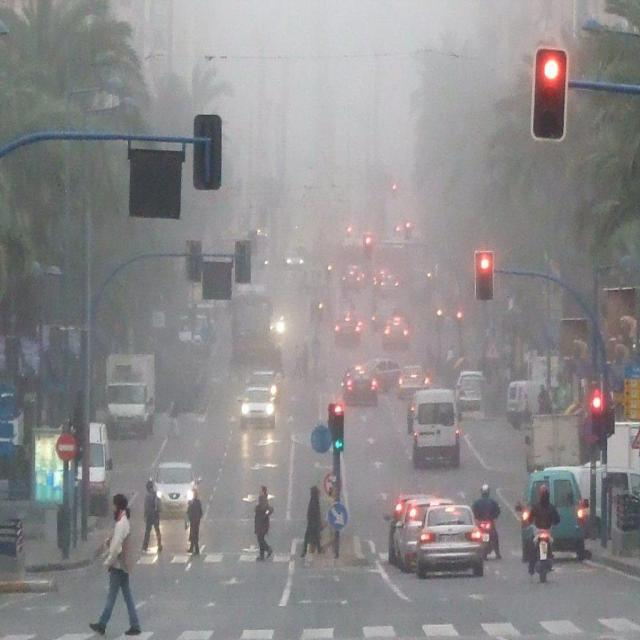traffic light: (531, 48, 566, 141), (471, 251, 497, 301)
